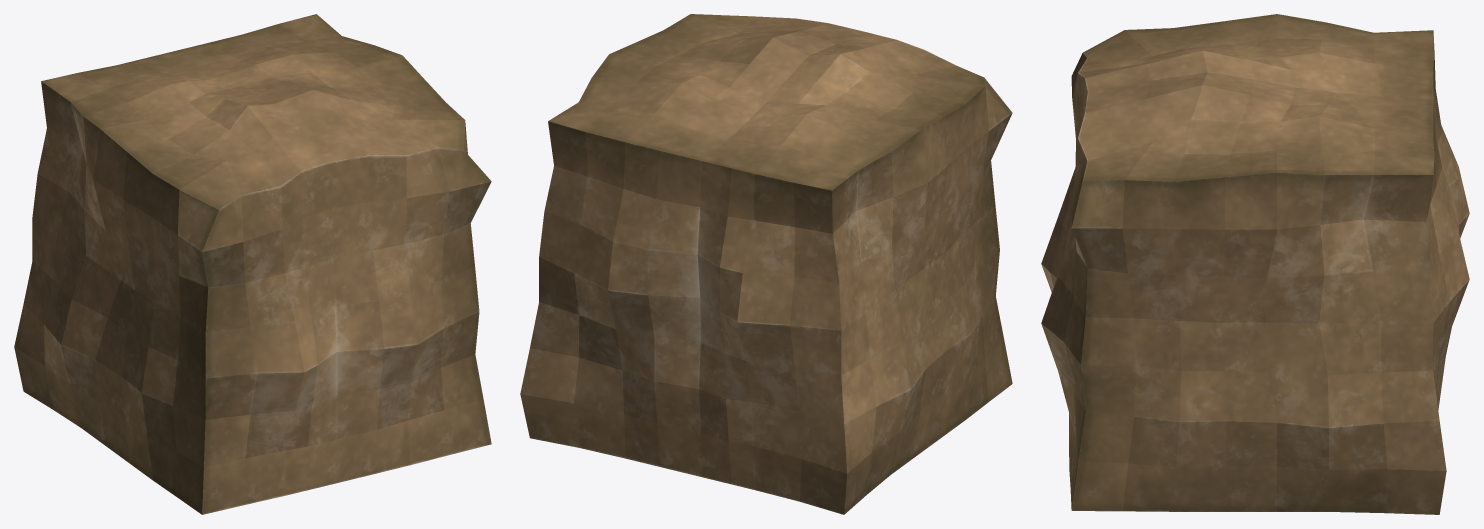
File: RockCube_Textured.fbx
3 renders of one model, left to right at view 1: azimuth 30°, elevation 25°; view 2: azimuth 150°, elevation 25°; view 3: azimuth 270°, elevation 25°, orthographic. The views are drawn at different scales.
Visible parts, largest first — view 1: RockCube; view 2: RockCube; view 3: RockCube.
Part boxes in pixels (x1,y1,x2,y2): RockCube: [14, 14, 491, 514]; RockCube: [520, 14, 1012, 514]; RockCube: [1041, 14, 1469, 514].
Bounding box in the file's own units: 227 × 221 × 235.
1 material, 1 textured.
